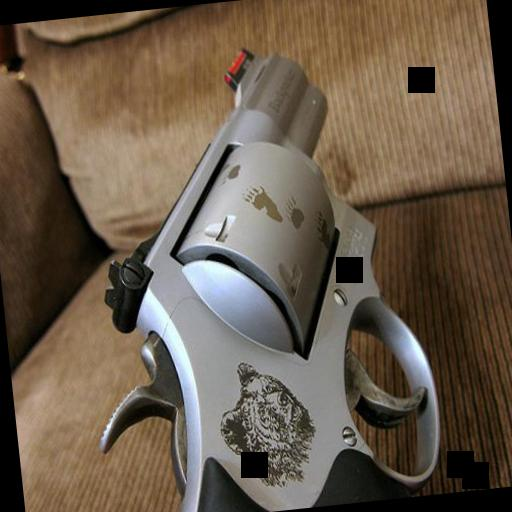Handgun: (51, 33, 446, 512)
